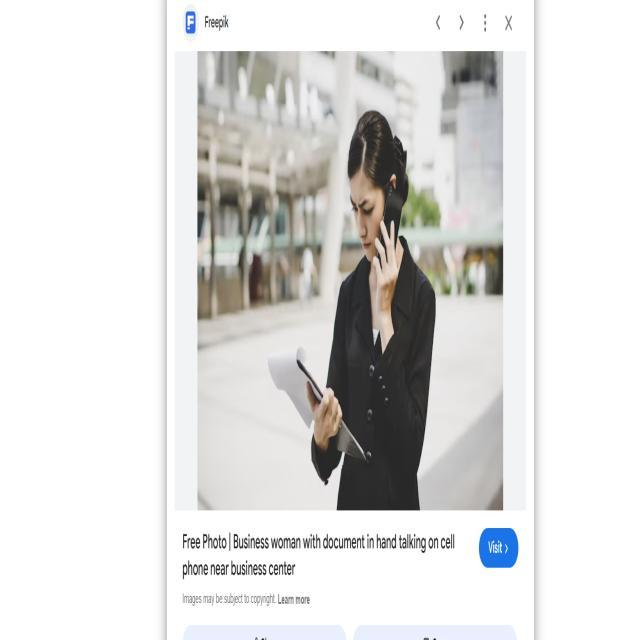face_no_mask: (348, 172, 388, 258)
